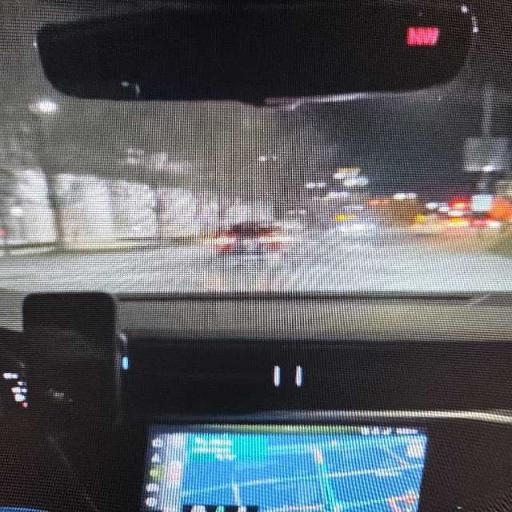car: (0, 0, 511, 511), (212, 223, 292, 255)
lane: (0, 233, 511, 325)
